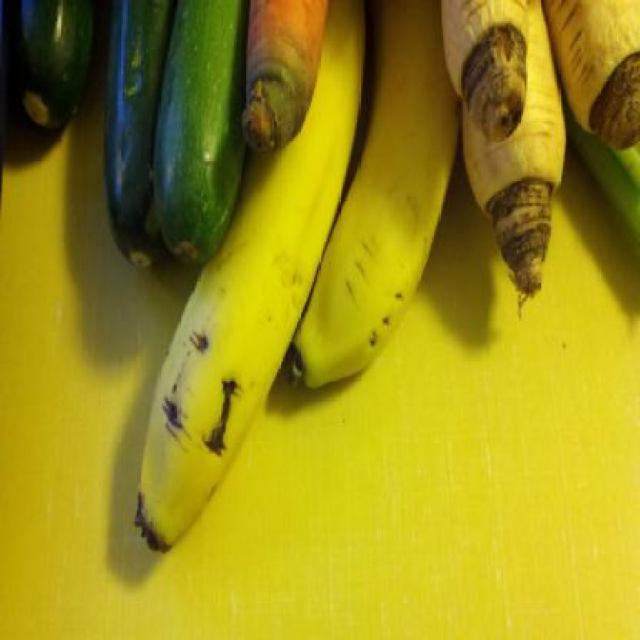Banana: (136, 16, 347, 566), (286, 0, 464, 392)
